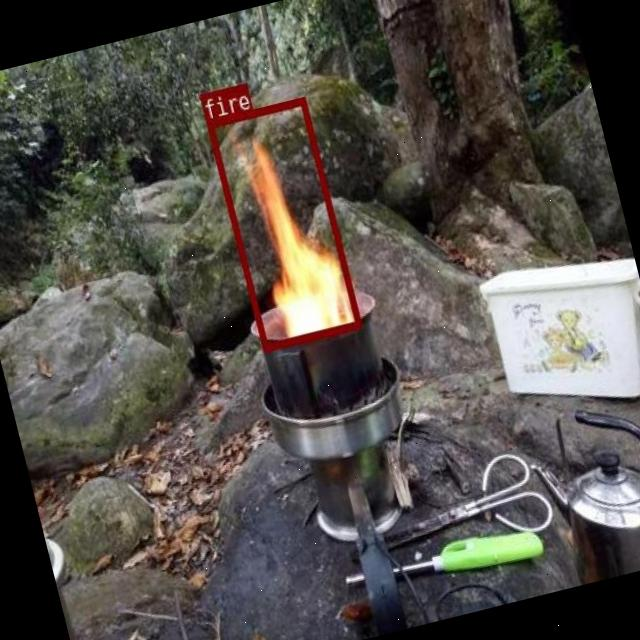fire: (204, 95, 361, 351)
